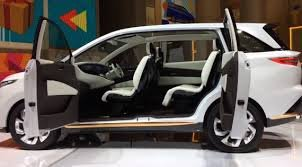mobil: (3, 17, 301, 147)
